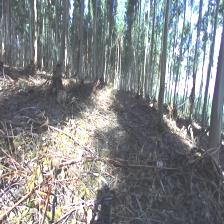trunk: (207, 29, 224, 164), (157, 5, 171, 130), (54, 4, 68, 91), (76, 5, 84, 86)
